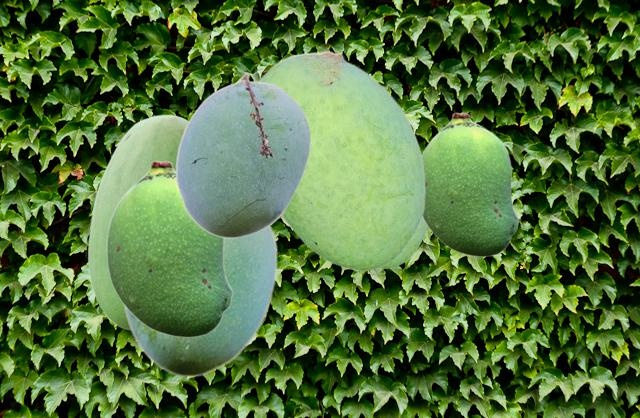green_mango: (257, 50, 424, 269), (121, 226, 277, 376), (106, 160, 232, 337), (175, 72, 310, 237), (87, 114, 187, 329), (422, 112, 518, 256), (382, 220, 427, 267)
